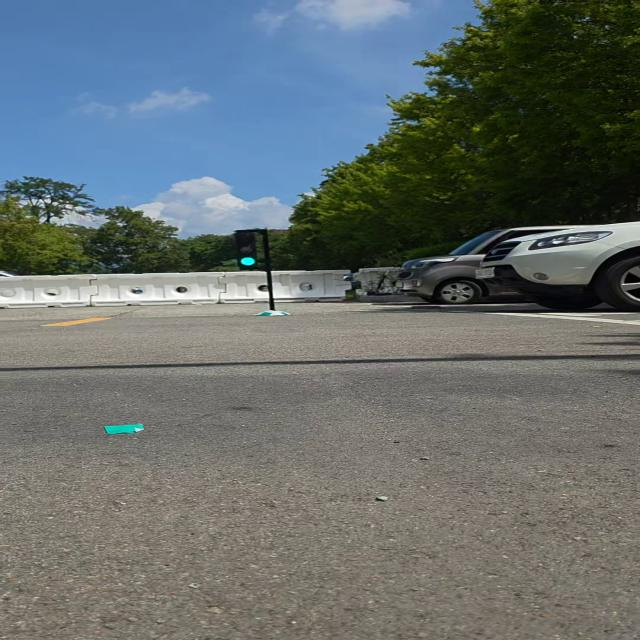green: (230, 229, 266, 270)
